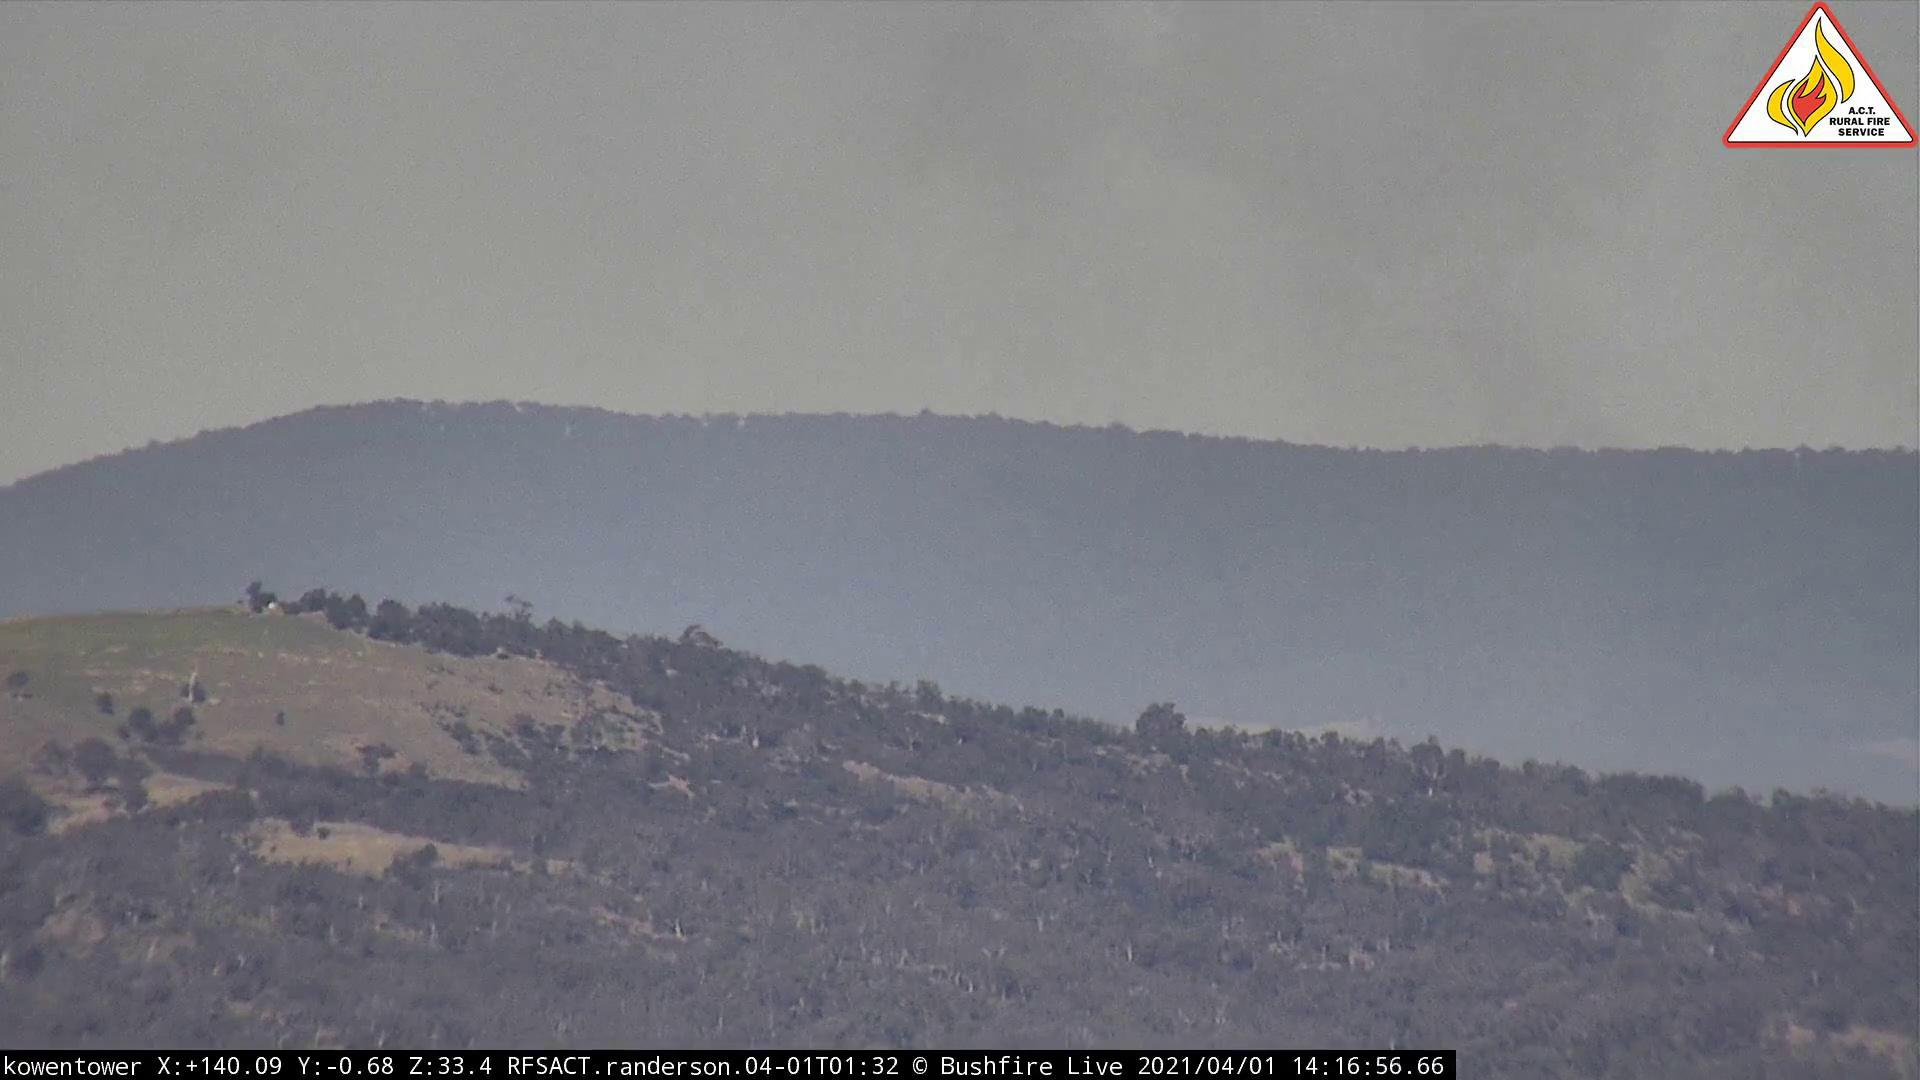instance_salient_object: (1021, 3, 1712, 502)
